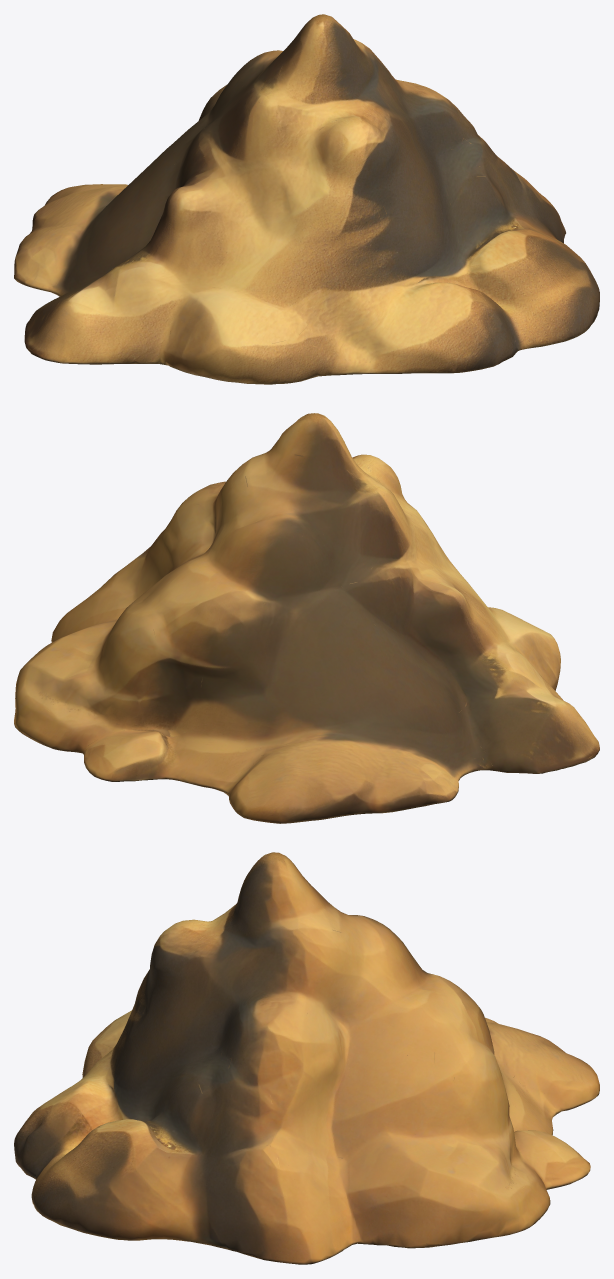
The model's file is desart.glb.
3 renders of one model, top to bottom at view 1: azimuth 30°, elevation 25°; view 2: azimuth 150°, elevation 25°; view 3: azimuth 270°, elevation 25°, orthographic. The views are drawn at different scales.
Bounding box in the file's own units: 2.01 × 0.9815 × 1.83.
1 material, 1 textured.
